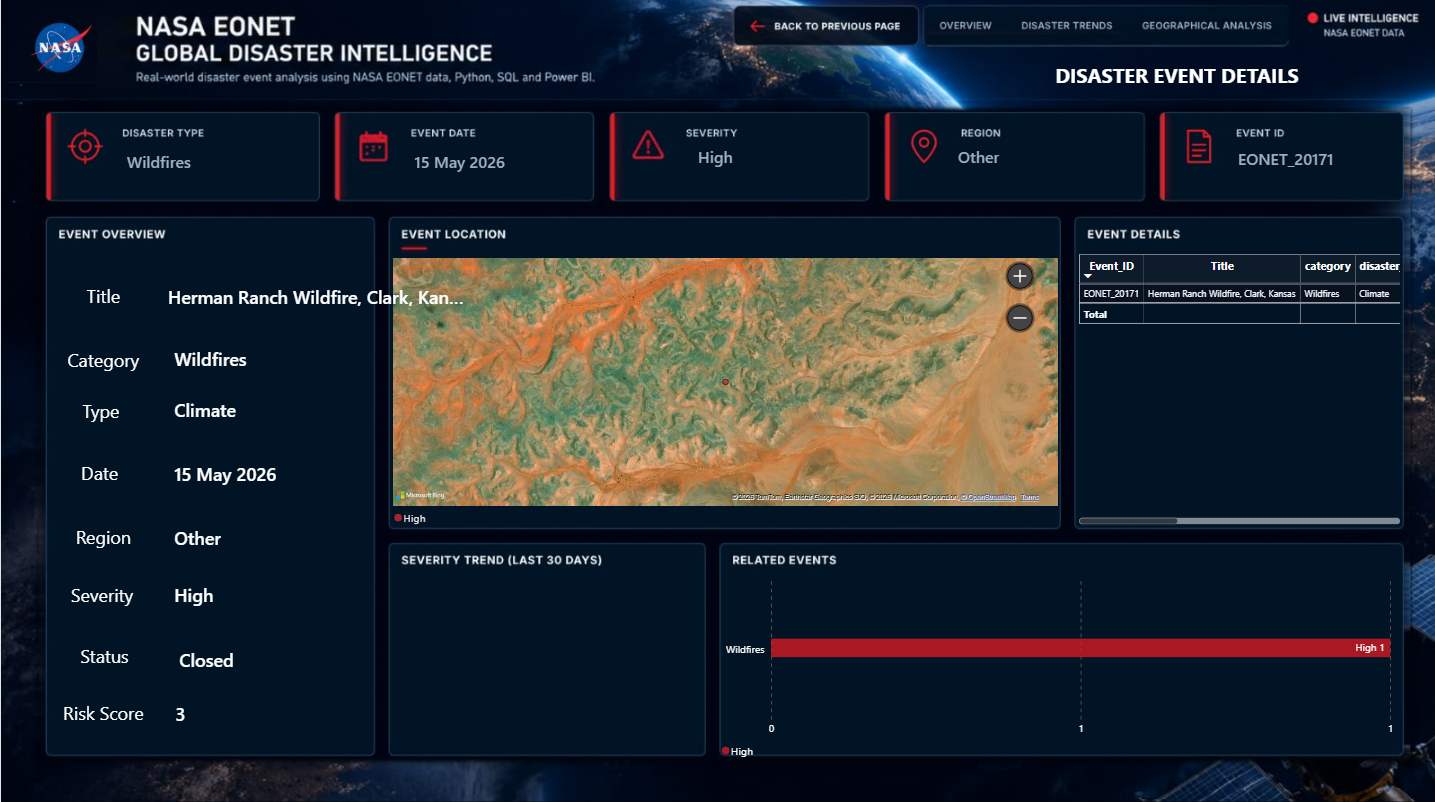

What the dashboard file says about the page in this screenshot:
{"tool":"powerbi","page":{"name":"Disaster Event Details","canvas":[1920,1080],"ordinal":3},"visuals":[{"type":"actionButton","box":[1229.6,7.8,116.7,53.3],"z":0,"group":"g1"},{"type":"cardVisual","fields":{"Data":["Min(disaster_events.Title)"]},"box":[207.4,366.7,427.8,63],"z":0,"group":"g2"},{"type":"clusteredBarChart","title":"Severity Distribution","fields":{"Category":["disaster_events.category"],"Series":["disaster_events.Severity"],"Y":["CountNonNull(disaster_events.Event_ID)"]},"box":[962.7,767.3,913,251.9],"z":0,"group":"g3"},{"type":"actionButton","box":[1353.6,5.9,158.3,56.7],"z":1000,"group":"g1"},{"type":"cardVisual","fields":{"Data":["Min(disaster_events.region)"]},"box":[1262,176,254,70],"z":1000,"group":"g3"},{"type":"cardVisual","fields":{"Data":["Min(disaster_events.category)"]},"box":[216.7,450,285.2,63],"z":1000,"group":"g2"},{"type":"group","id":"g1","title":"Buttons3","box":[1229.6,5.9,485,56.9],"z":2000,"group":"g3"},{"type":"actionButton","box":[1516.3,9.4,198.3,53.3],"z":2000,"group":"g1"},{"type":"cardVisual","fields":{"Data":["Min(disaster_events.disaster_type_group)"]},"box":[216.7,518.5,285.2,63],"z":2000,"group":"g2"},{"type":"tableEx","fields":{"Values":["disaster_events.event_id","disaster_events.title","disaster_events.category","disaster_events.disaster_type_group","disaster_events.source","disaster_events.region","disaster_events.latitude","disaster_events.longitude","disaster_events.event_age_days","disaster_events.event_age_category","disaster_events.status","disaster_events.severity"]},"box":[1438.9,340.7,429.6,361.1],"z":3000,"group":"g3"},{"type":"cardVisual","fields":{"Data":["Min(disaster_events.date)"]},"box":[216.7,603.7,285.2,63],"z":3000,"group":"g2"},{"type":"cardVisual","fields":{"Data":["Min(disaster_events.region)"]},"box":[216.7,688.9,285.2,63],"z":4000,"group":"g2"},{"type":"lineChart","title":"Disaster Events by Category","fields":{"Category":["disaster_events.date"],"Series":["disaster_events.Severity"],"Y":["disaster_events.Total Events"]},"box":[519.5,768.5,418.5,248.1],"z":4000,"group":"g3"},{"type":"map","title":"Global Disaster Event Map","fields":{"Series":["disaster_events.severity"],"X":["disaster_events.longitude"],"Y":["disaster_events.latitude"]},"box":[523.8,347,887,361.1],"z":5000,"group":"g3"},{"type":"cardVisual","fields":{"Data":["Min(disaster_events.Severity)"]},"box":[216.7,766.7,285.2,63],"z":5000,"group":"g2"},{"type":"image","box":[5.3,17.3,126.9,100.2],"z":6000,"group":"g3"},{"type":"cardVisual","fields":{"Data":["Min(disaster_events.status)"]},"box":[223.2,850.5,266.7,68.5],"z":6000,"group":"g2"},{"type":"cardVisual","fields":{"Data":["Min(disaster_events.category)"]},"box":[152.6,182.6,242,70],"z":7000,"group":"g3"},{"type":"cardVisual","fields":{"Data":["Sum(disaster_events.risk_score)"]},"box":[218.5,924.1,285.2,63],"z":7000,"group":"g2"},{"type":"cardVisual","fields":{"Data":["Min(disaster_events.severity)"]},"box":[914.6,174.6,144,72],"z":8000,"group":"g3"},{"type":"actionButton","box":[63,451.9,150,63],"z":8000,"group":"g2"},{"type":"cardVisual","fields":{"Data":["Min(disaster_events.date)"]},"box":[536.6,174.6,244,86],"z":9000,"group":"g3"},{"type":"actionButton","box":[59.3,520.4,150,63],"z":9000,"group":"g2"},{"type":"cardVisual","fields":{"Data":["Min(disaster_events.event_id)"]},"box":[1636.6,182.6,218,60],"z":10000,"group":"g3"},{"type":"actionButton","box":[62.7,367.1,150,63],"z":10000,"group":"g2"},{"type":"group","id":"g2","title":"Event Overview","box":[57.4,11.5,1164.6,975.6],"z":11000,"group":"g3"},{"type":"actionButton","box":[57.4,603.7,150,63],"z":11000,"group":"g2"},{"type":"group","id":"g3","title":"Group 1","box":[5.3,5.9,1870.4,1013.3],"z":11001},{"type":"textbox","box":[1346.5,85.5,450,48.8],"z":11002},{"type":"actionButton","box":[63,688.9,150,63],"z":12000,"group":"g2"},{"type":"actionButton","box":[61.1,766.7,150,63],"z":13000,"group":"g2"},{"type":"actionButton","box":[64.6,848.5,150,63],"z":14000,"group":"g2"},{"type":"actionButton","box":[63,924.1,150,63],"z":15000,"group":"g2"},{"type":"actionButton","box":[981.3,11.5,240.7,53.7],"z":16000,"group":"g2"}]}

Visuals, with their boxes in screenshot pixels (x1, y1, x2, y2), scaled from the page's 1920x1080 canvas onto the 1435x802 screenshot:
actionButton: detection(919, 6, 1006, 45)
cardVisual - Min(disaster_events.Title): detection(155, 272, 475, 319)
"Severity Distribution" clusteredBarChart: detection(720, 570, 1402, 757)
actionButton: detection(1012, 4, 1130, 46)
cardVisual - Min(disaster_events.region): detection(943, 131, 1133, 183)
cardVisual - Min(disaster_events.category): detection(162, 334, 375, 381)
"Buttons3" group: detection(919, 4, 1281, 47)
actionButton: detection(1133, 7, 1281, 47)
cardVisual - Min(disaster_events.disaster_type_group): detection(162, 385, 375, 432)
tableEx - disaster_events.event_id x disaster_events.title: detection(1075, 253, 1397, 521)
cardVisual - Min(disaster_events.date): detection(162, 448, 375, 495)
cardVisual - Min(disaster_events.region): detection(162, 512, 375, 558)
"Disaster Events by Category" lineChart: detection(388, 571, 701, 755)
"Global Disaster Event Map" map: detection(391, 258, 1054, 526)
cardVisual - Min(disaster_events.Severity): detection(162, 569, 375, 616)
image: detection(4, 13, 99, 87)
cardVisual - Min(disaster_events.status): detection(167, 632, 366, 682)
cardVisual - Min(disaster_events.category): detection(114, 136, 295, 188)
cardVisual - Sum(disaster_events.risk_score): detection(163, 686, 376, 733)
cardVisual - Min(disaster_events.severity): detection(684, 130, 791, 183)
actionButton: detection(47, 336, 159, 382)
cardVisual - Min(disaster_events.date): detection(401, 130, 583, 194)
actionButton: detection(44, 386, 156, 433)
cardVisual - Min(disaster_events.event_id): detection(1223, 136, 1386, 180)
actionButton: detection(47, 273, 159, 319)
"Event Overview" group: detection(43, 9, 913, 733)
actionButton: detection(43, 448, 155, 495)
"Group 1" group: detection(4, 4, 1402, 757)
textbox: detection(1006, 63, 1343, 100)
actionButton: detection(47, 512, 159, 558)
actionButton: detection(46, 569, 158, 616)
actionButton: detection(48, 630, 160, 677)
actionButton: detection(47, 686, 159, 733)
actionButton: detection(733, 9, 913, 48)
